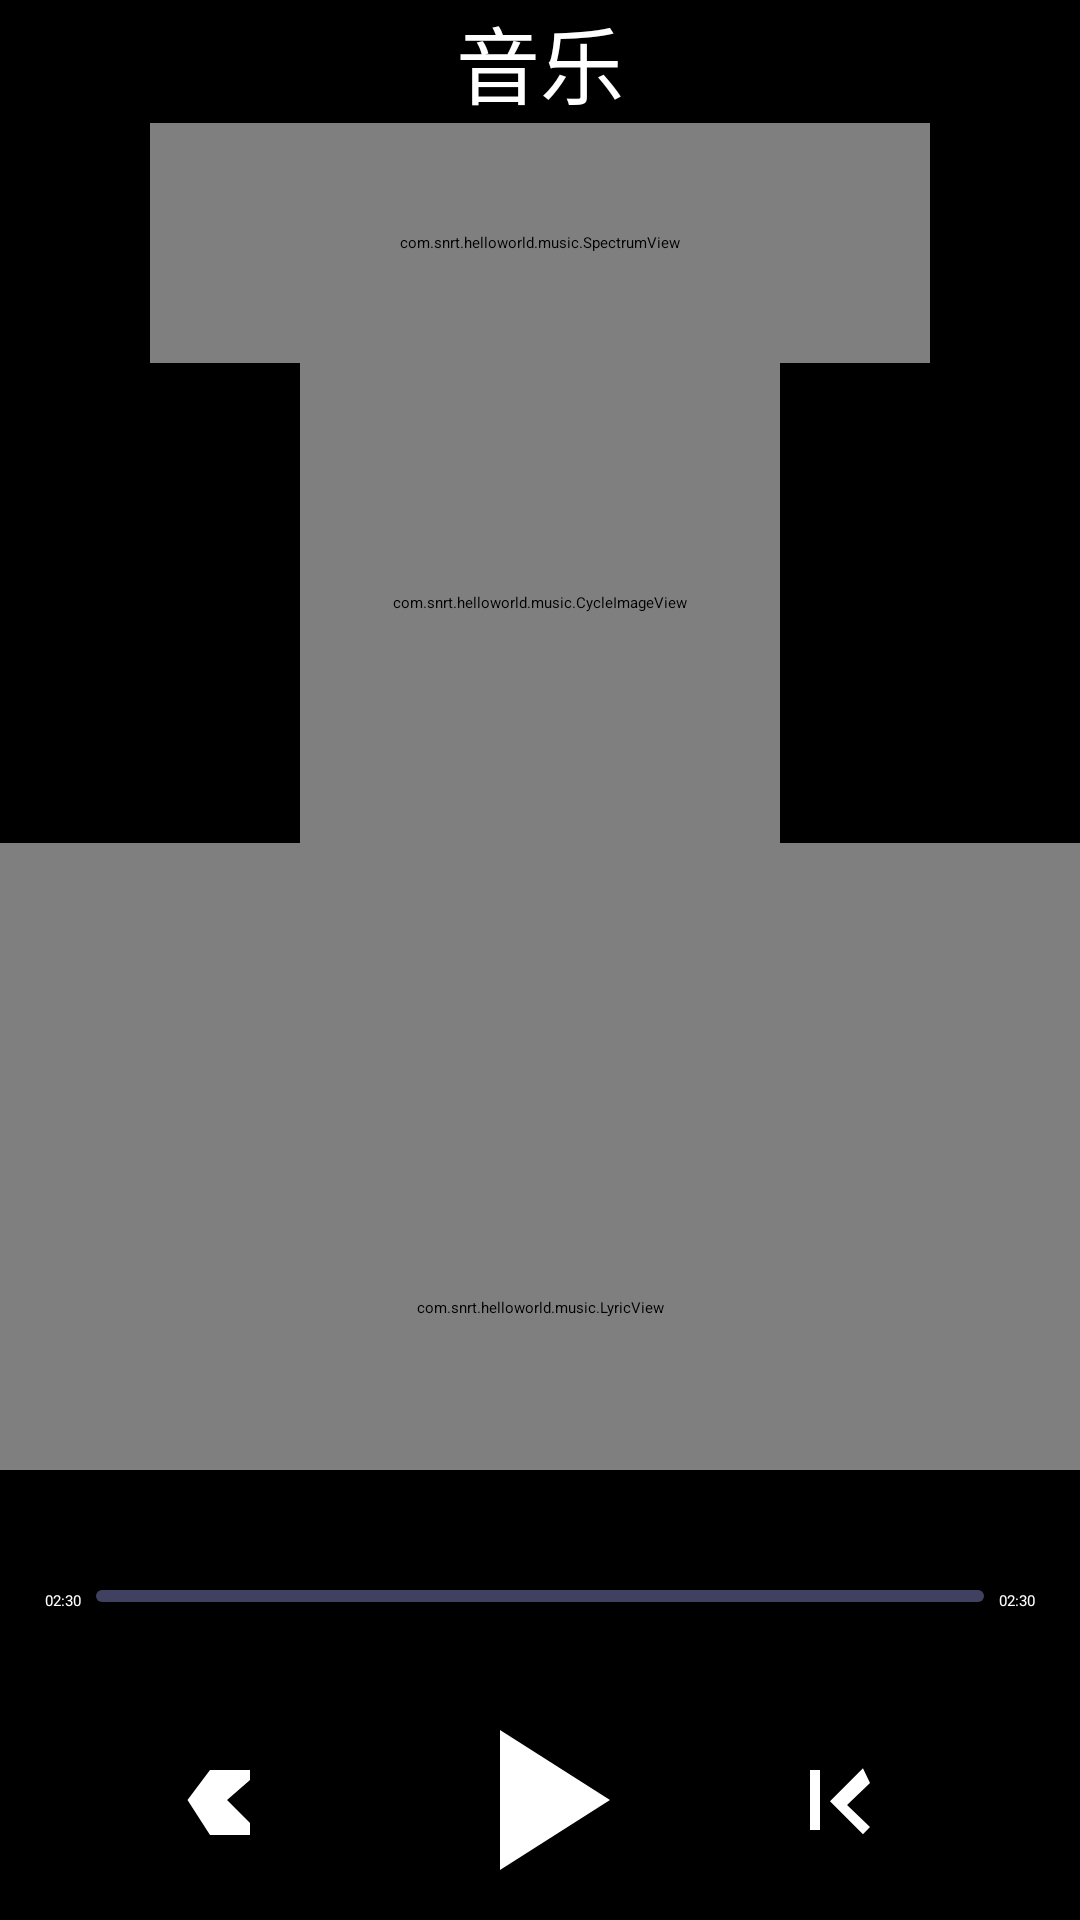

Where icons sit on this 1080x1920 app screen, as (x1, y1, x2, y2):
play: (500, 1730, 610, 1870)
